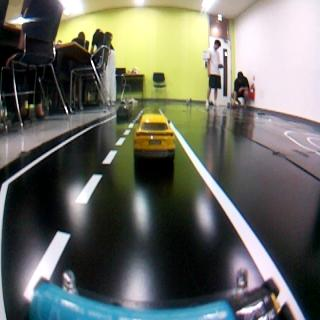car: (138, 114, 178, 166), (118, 107, 131, 120)
